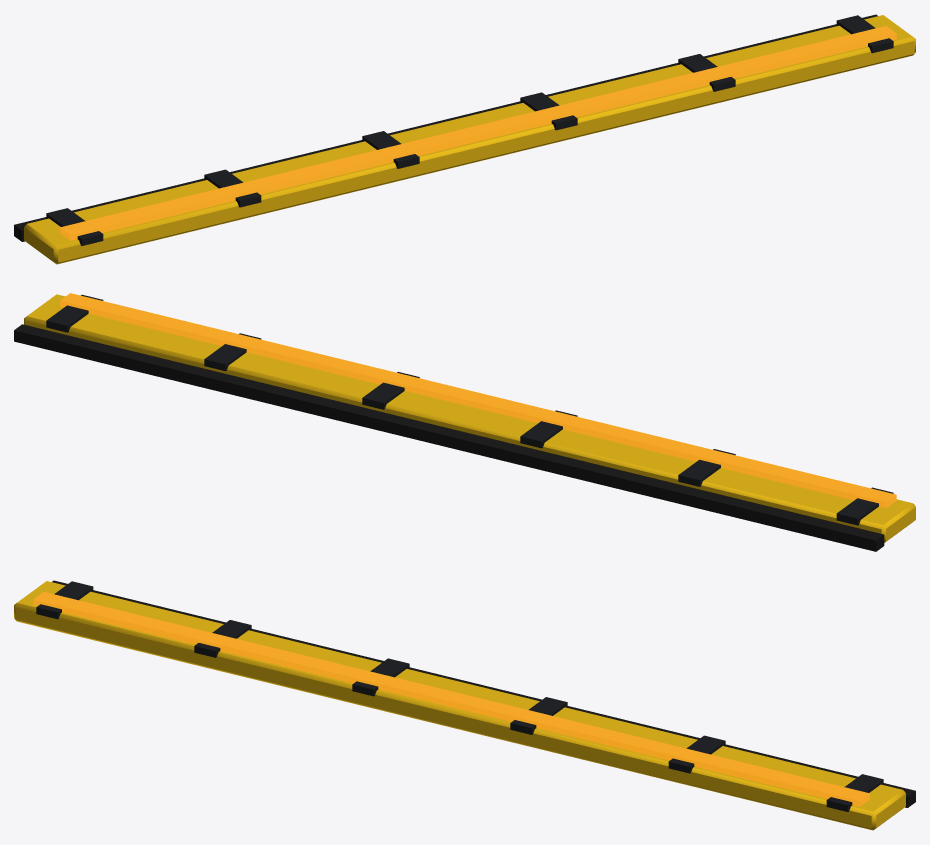
The model's file is striplight_stair_edge_light.glb.
The picture shows the model from 3 angles, top to bottom: view 1: azimuth 30°, elevation 25°; view 2: azimuth 150°, elevation 25°; view 3: azimuth 330°, elevation 25°; orthographic projection.
Parts seen in each view (by area): view 1: striplight_stair_edge_light; view 2: striplight_stair_edge_light; view 3: striplight_stair_edge_light.
Boxes of the visible parts, x1,y1,x2,y2 form: striplight_stair_edge_light: (14,14,915,264); striplight_stair_edge_light: (14,293,915,551); striplight_stair_edge_light: (14,580,915,830).
Size of the model in its own units: 1.2 by 0.033 by 0.103.
